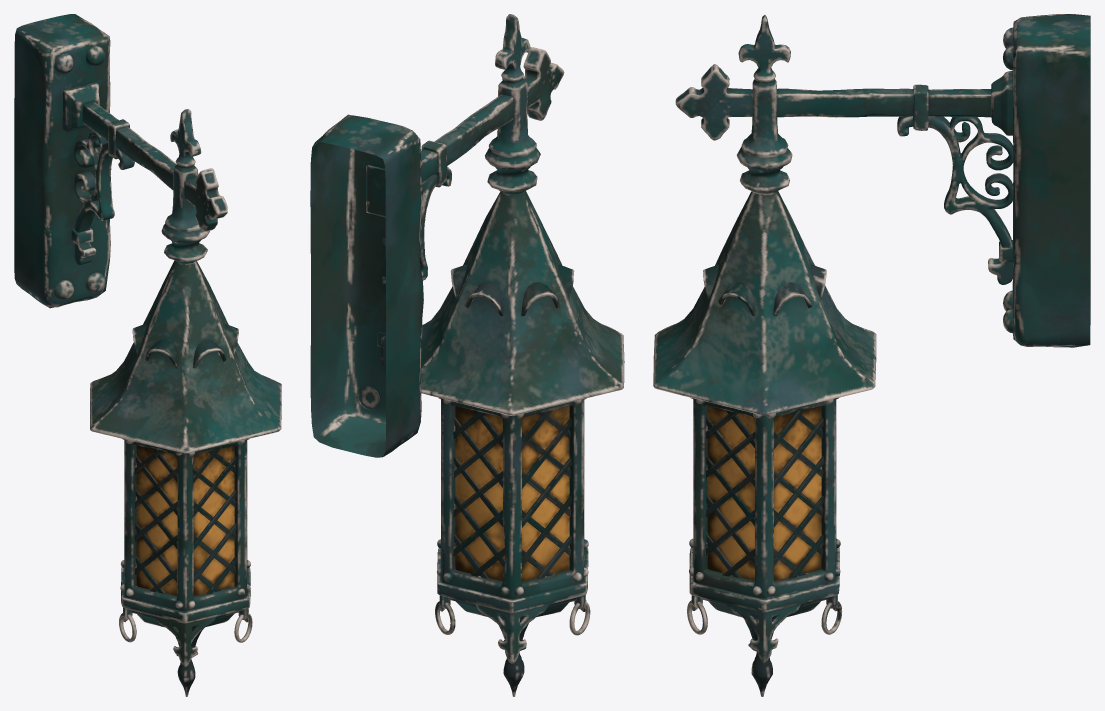
File: lamparapared.fbx
The picture shows the model from 3 angles, left to right: view 1: azimuth 30°, elevation 25°; view 2: azimuth 150°, elevation 25°; view 3: azimuth 270°, elevation 25°; orthographic projection. The views are drawn at different scales.
Parts seen in each view (by area): view 1: Wall_Lantern; view 2: Wall_Lantern; view 3: Wall_Lantern.
Boxes of the visible parts, box(x1,y1,x2,y2) form: Wall_Lantern: box(14, 14, 281, 696); Wall_Lantern: box(310, 14, 624, 696); Wall_Lantern: box(653, 14, 1090, 696).
Bounding box in the file's own units: 34.58 × 102 × 59.29.
